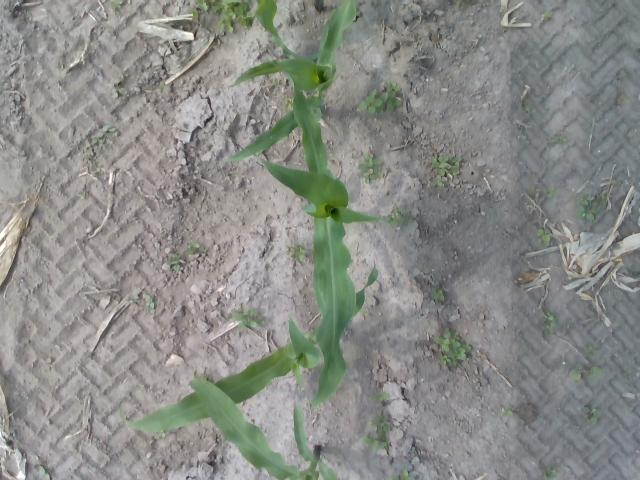Maize: (118, 260, 380, 432), (247, 68, 377, 408), (228, 0, 358, 162), (188, 376, 341, 480)
Weeds: (358, 81, 404, 115), (211, 0, 256, 33), (432, 331, 471, 368), (362, 412, 392, 453), (574, 193, 608, 221), (357, 152, 385, 184), (228, 307, 266, 330), (85, 124, 116, 152), (431, 154, 462, 176), (387, 204, 414, 228), (188, 0, 215, 22), (568, 366, 602, 380), (542, 311, 560, 337), (286, 242, 308, 262), (583, 406, 605, 426), (388, 468, 417, 480), (530, 186, 558, 198), (108, 82, 128, 98), (167, 252, 183, 271), (542, 466, 560, 480), (537, 228, 552, 244), (144, 293, 156, 312), (370, 391, 390, 402), (432, 287, 446, 302), (184, 241, 200, 254), (586, 344, 600, 358), (432, 176, 446, 188), (554, 133, 569, 144), (499, 407, 514, 417), (109, 0, 123, 9), (285, 98, 294, 112), (524, 100, 533, 114), (38, 464, 48, 476), (197, 374, 212, 382), (358, 309, 370, 319), (155, 428, 166, 438), (542, 10, 554, 18), (270, 78, 280, 87), (155, 81, 165, 90), (128, 296, 136, 304), (76, 193, 85, 199)
